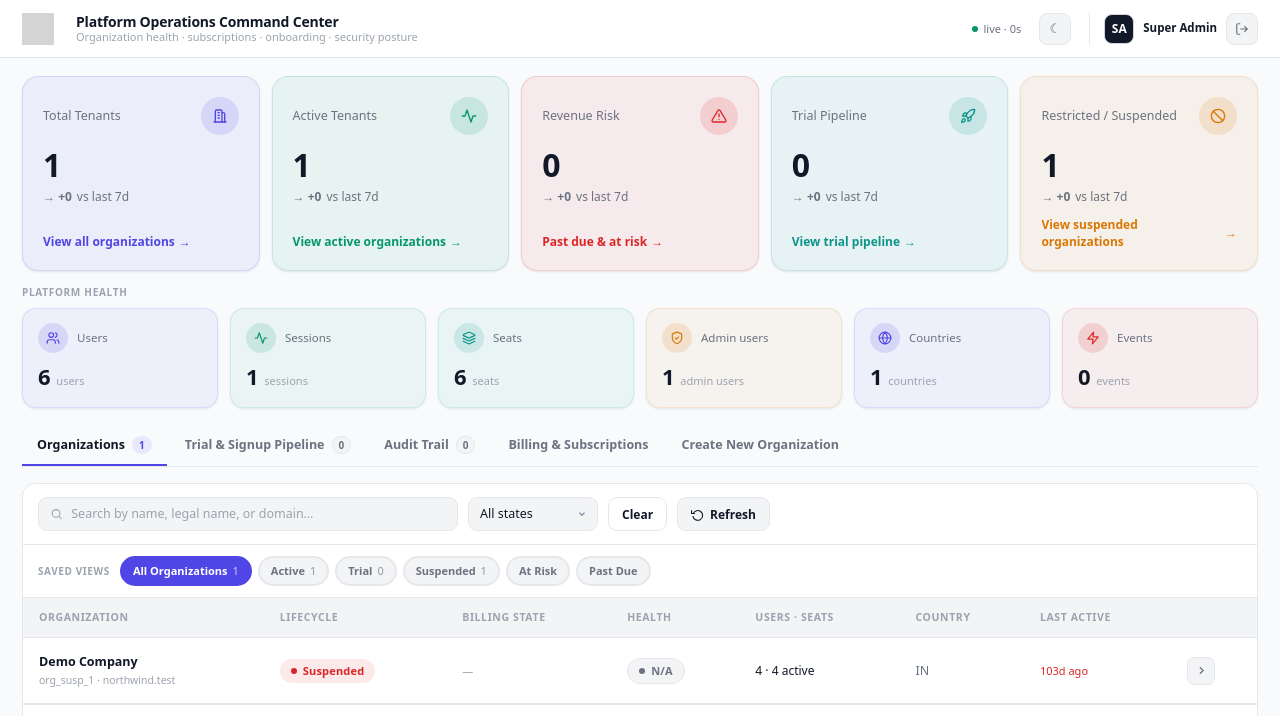
Test: delete confirmation › keeps the organization visible and shows a readable error when delete fails
Later steps or results of the test are not shown.
Click the text "Demo Company".
click(88, 662)  # box [39, 653, 138, 670]
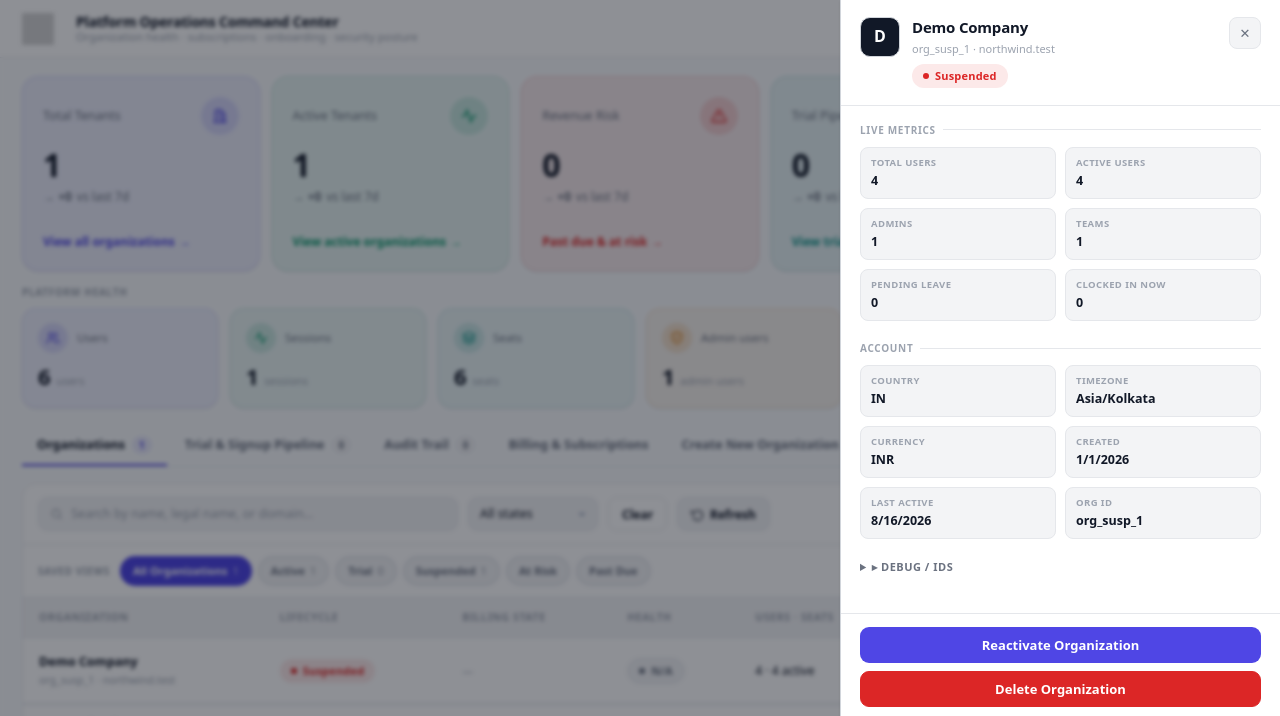
Check: the button "Reactivate Organization" is shown, box [860, 627, 1261, 663]
Click the button "Delete Organization".
click(1060, 689)  # box [860, 671, 1261, 707]
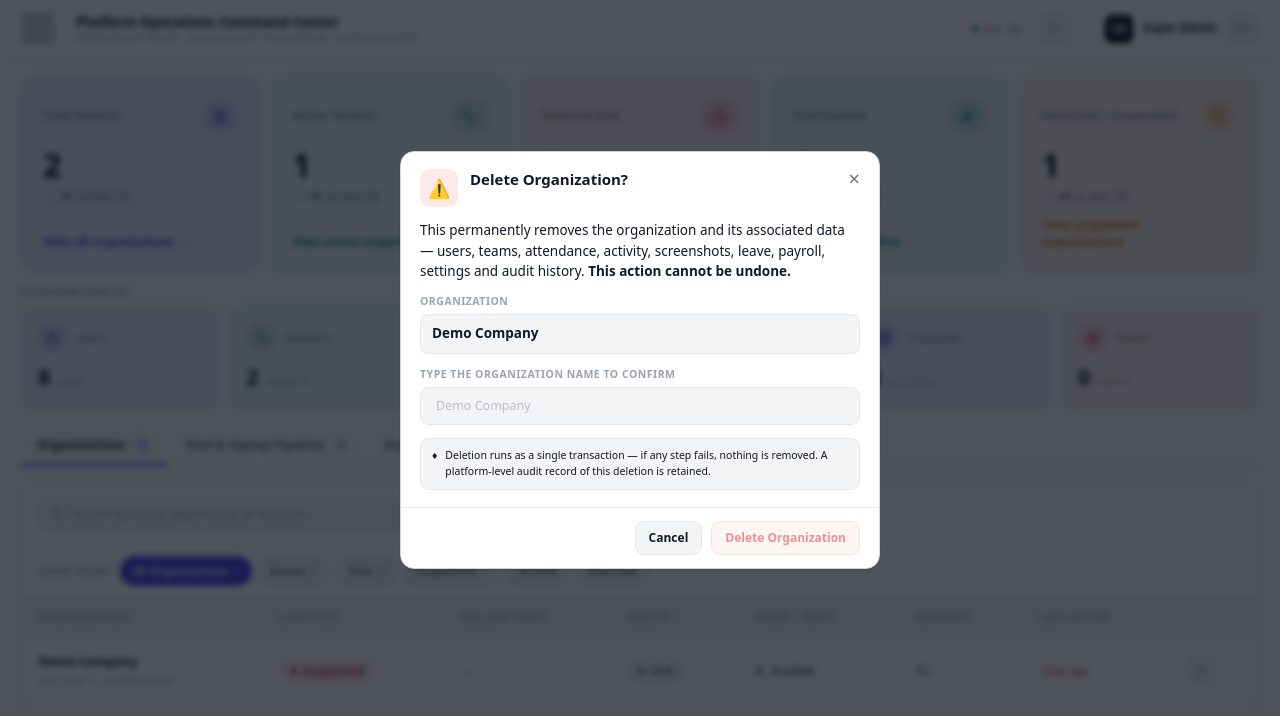
Check: the heading "Delete Organization?" is shown, box [470, 169, 628, 189]
